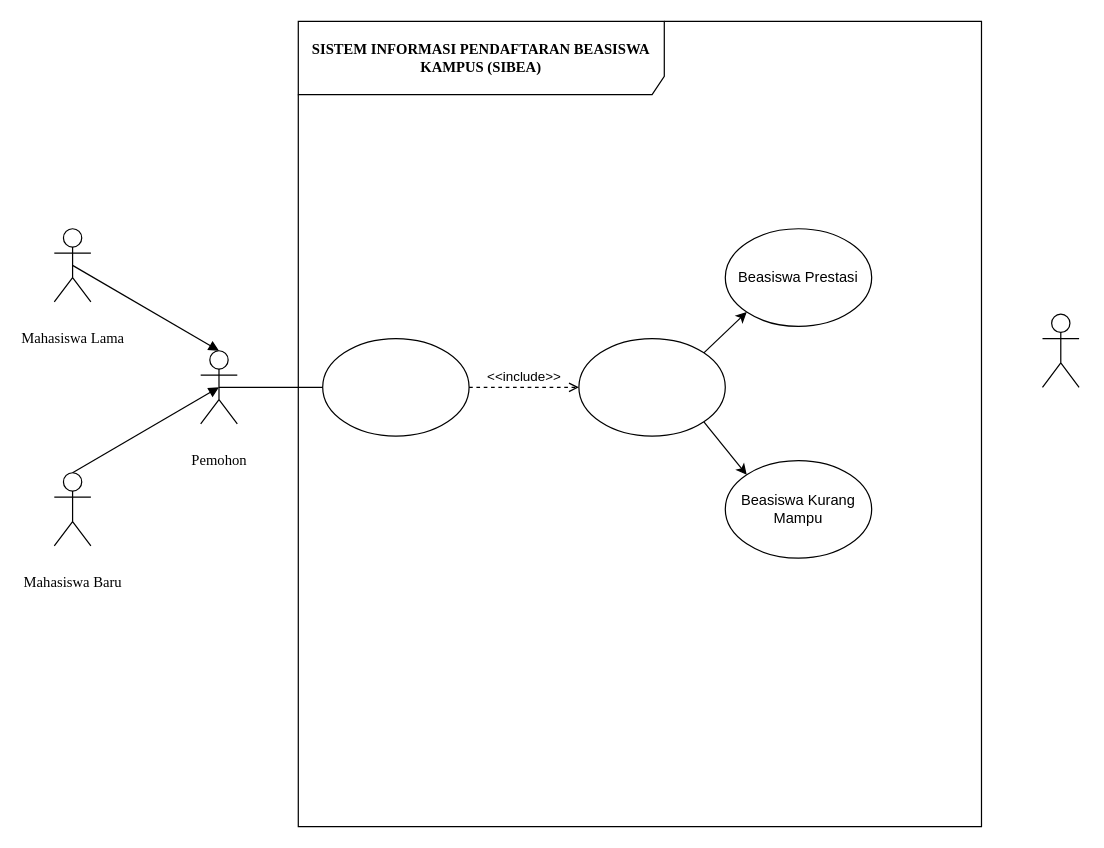
This 1104x848 diagram has some shape labels left out. Each missing label, with the centre of its shape:
"Pemohon melihat daftar beasiswa" goes at (x=395, y=386).
"Pemohon memilih beasiswa yang masih dibuka" goes at (x=651, y=386).
"Petugas" goes at (x=1060, y=350).
